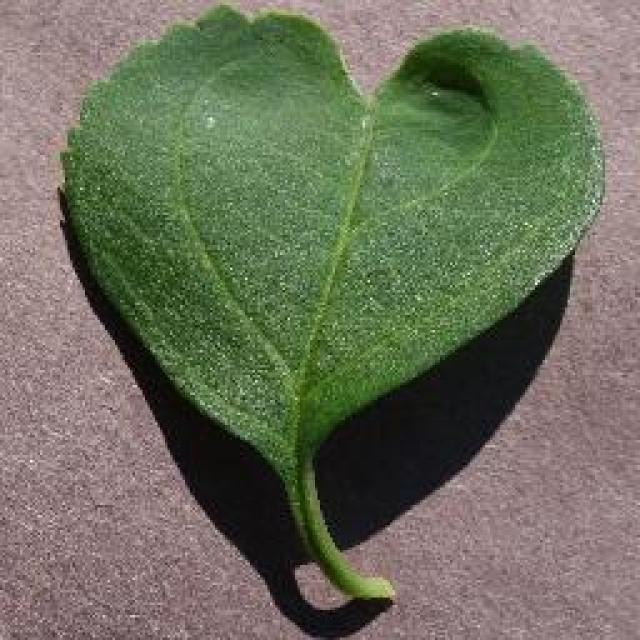Cherry___healthy: (43, 0, 615, 635)
